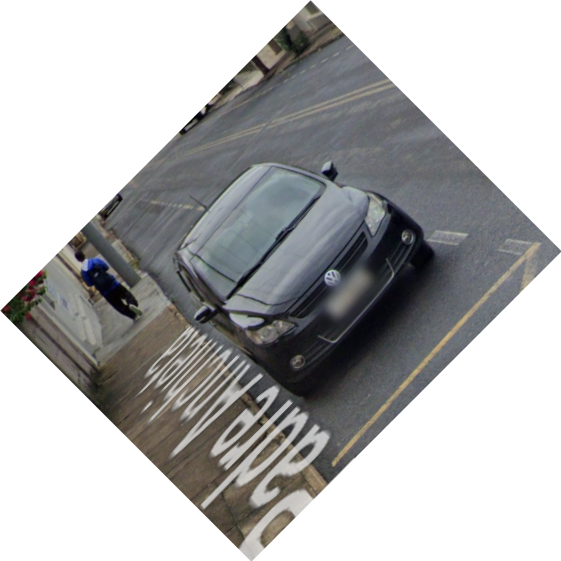car: (169, 158, 445, 400)
